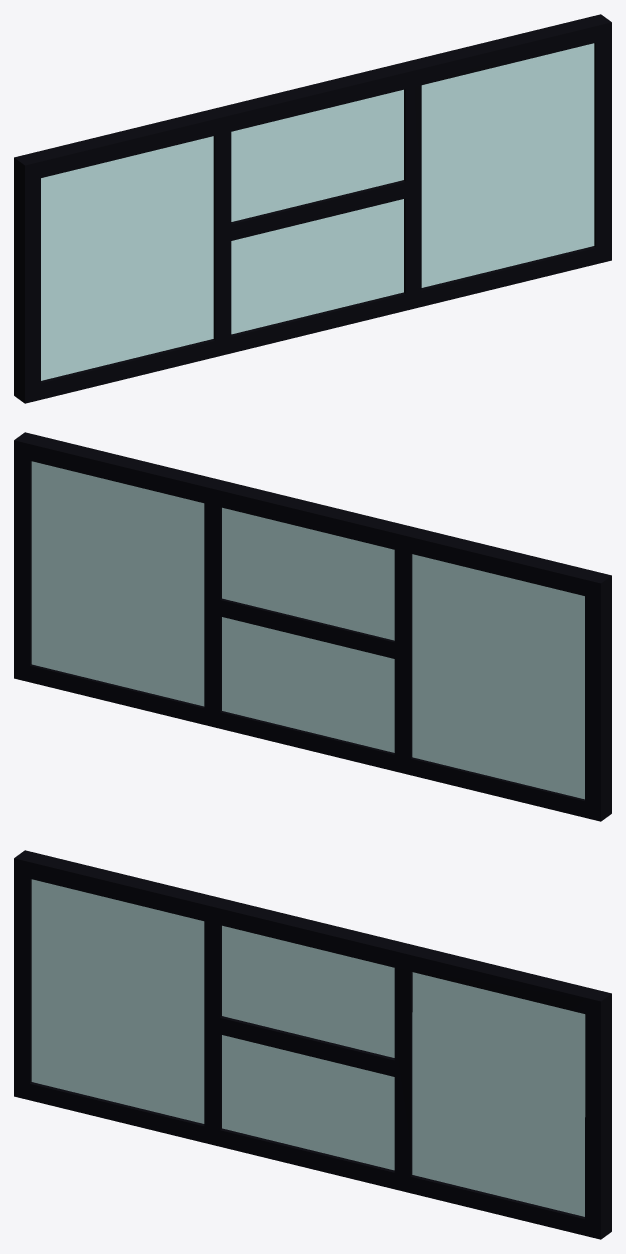
Rendered from Window_02.FBX.
3 renders of one model, top to bottom at view 1: azimuth 30°, elevation 25°; view 2: azimuth 150°, elevation 25°; view 3: azimuth 330°, elevation 25°, orthographic.
Visible parts, largest first — view 1: Object001, Box001; view 2: Object001, Box001; view 3: Object001, Box001.
Part boxes in pixels (<box>): Object001: <box>41,43,594,380</box>; Box001: <box>14,14,611,403</box>; Object001: <box>31,461,584,799</box>; Box001: <box>14,432,611,821</box>; Object001: <box>31,879,585,1216</box>; Box001: <box>14,850,611,1239</box>.
Bounding box in the file's own units: 185 × 71.74 × 6.
2 materials, 1 textured.
